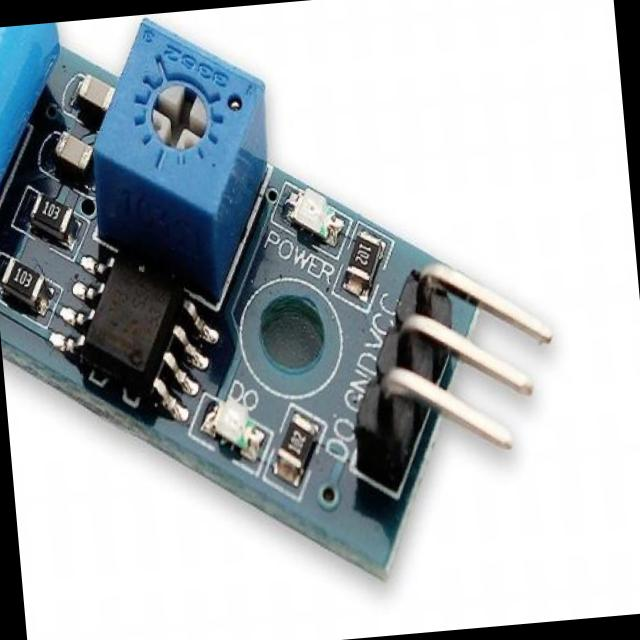IC: (69, 236, 197, 413)
LED: (210, 388, 253, 448), (288, 186, 336, 235)
capacitor: (52, 124, 96, 175), (75, 67, 114, 114)
connector: (342, 250, 573, 510)
potentiometer: (90, 7, 281, 226)
resistor: (270, 401, 322, 476), (336, 228, 386, 300), (0, 246, 45, 315), (31, 182, 71, 246)
